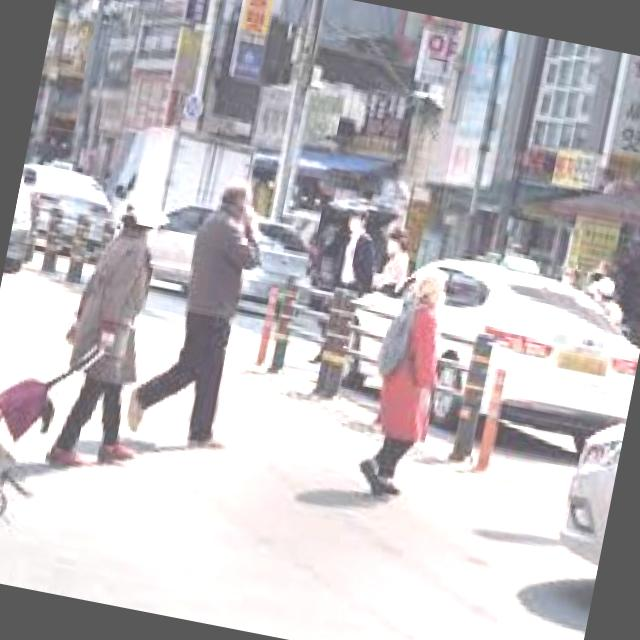Person: (124, 168, 280, 458), (41, 178, 180, 476), (358, 260, 454, 503), (299, 198, 383, 376)
